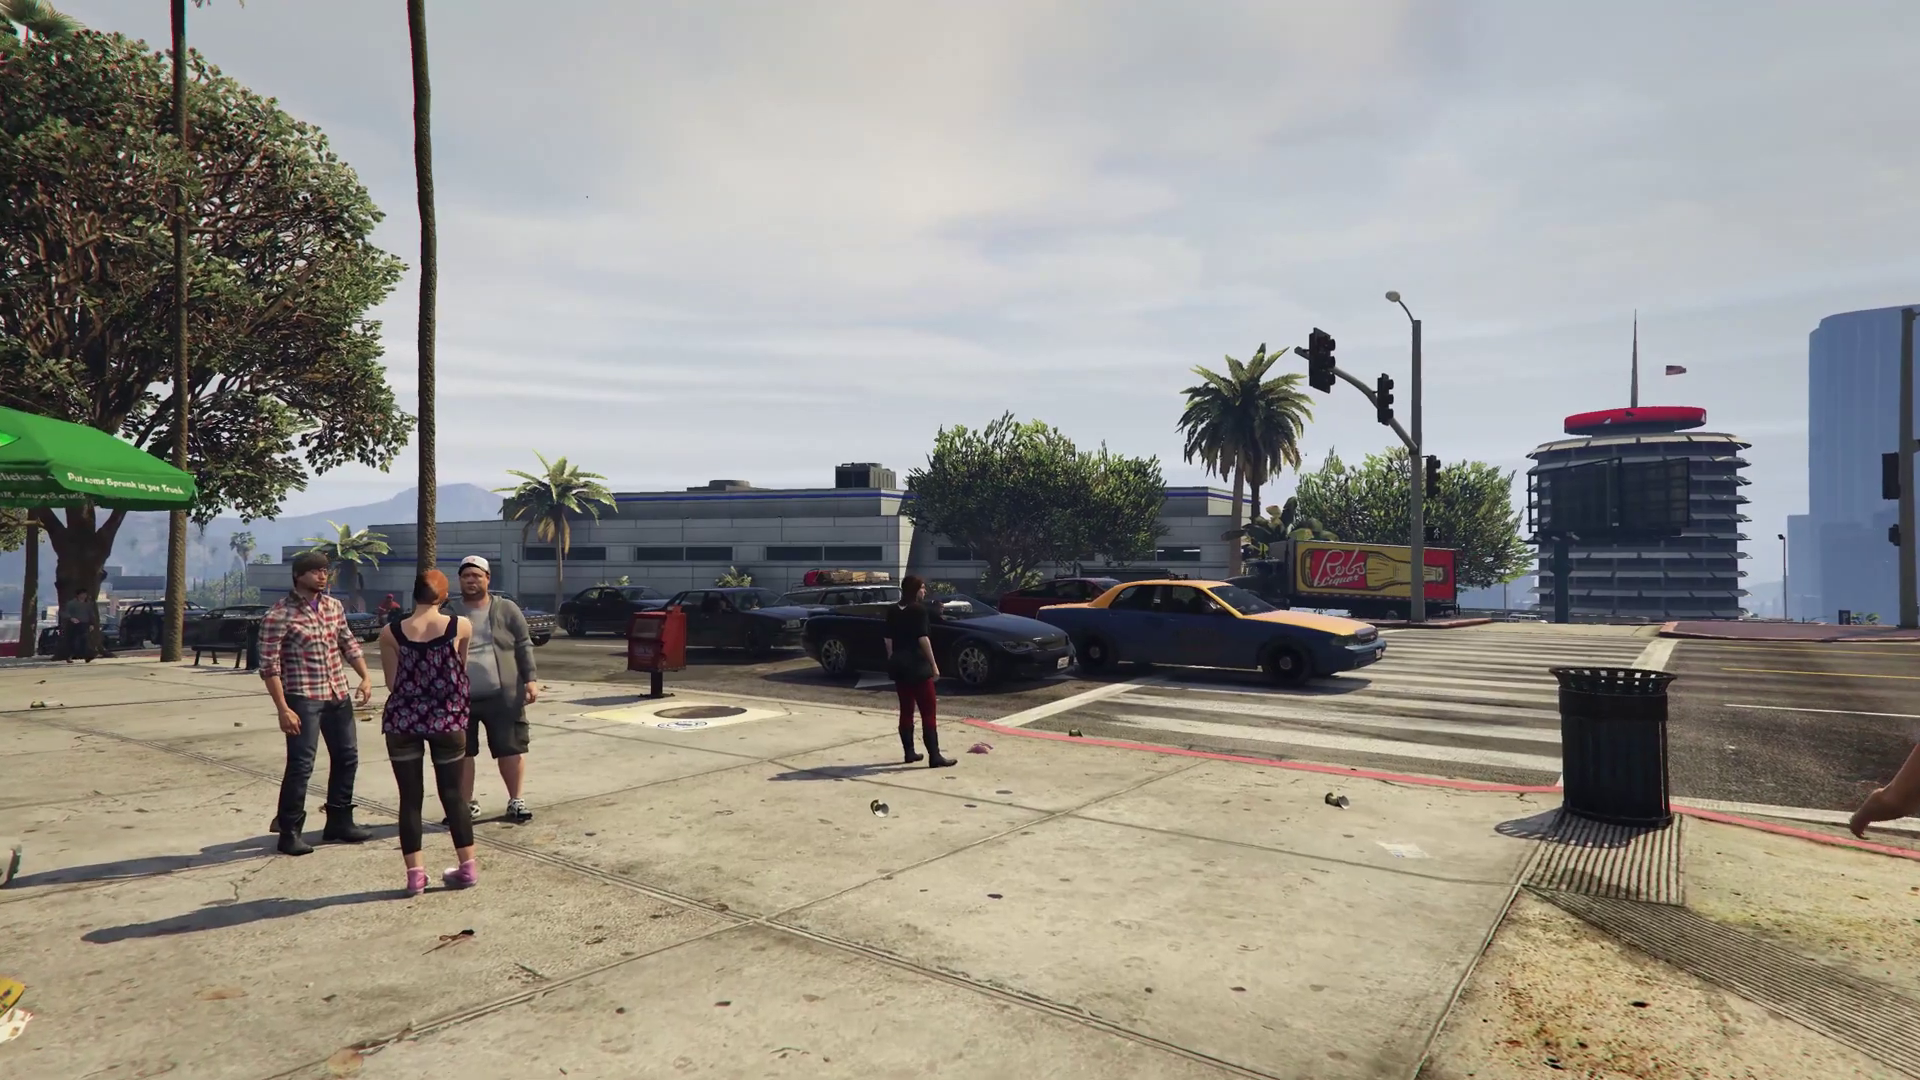car: (1040, 581, 1388, 681), (800, 591, 1074, 682), (654, 588, 825, 659), (556, 584, 676, 635), (448, 588, 555, 645), (1001, 577, 1109, 617), (192, 604, 268, 648), (121, 601, 205, 640), (339, 601, 381, 637)
person: (379, 569, 483, 899), (259, 551, 372, 855), (452, 555, 540, 822), (883, 575, 959, 770)
traffic light: (1308, 328, 1333, 394), (1372, 374, 1391, 423), (1425, 455, 1441, 499)
